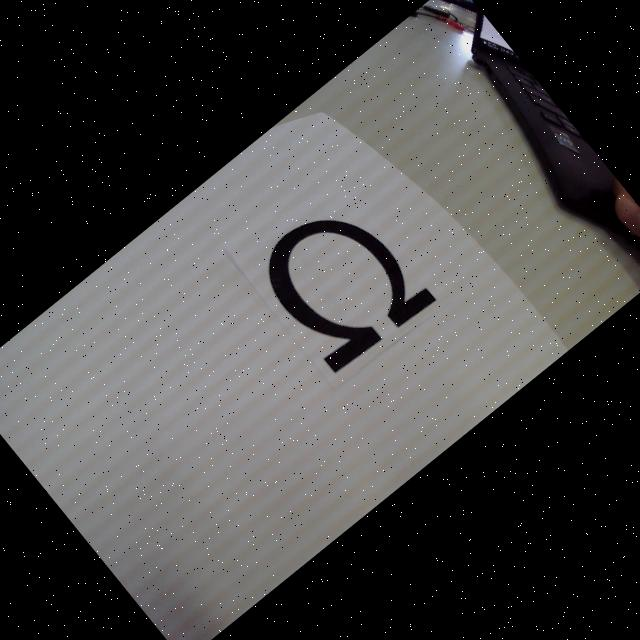OMEGA: (248, 186, 438, 379)
